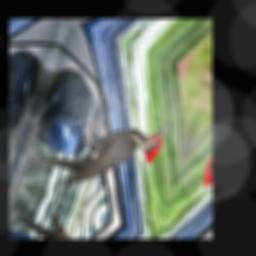Woodpecker: (24, 75, 172, 219)
